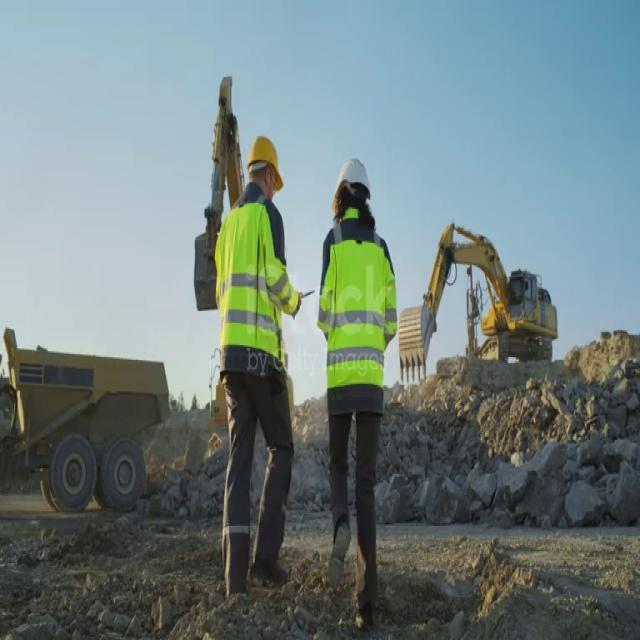capacete: (242, 119, 288, 188), (328, 144, 375, 204)
